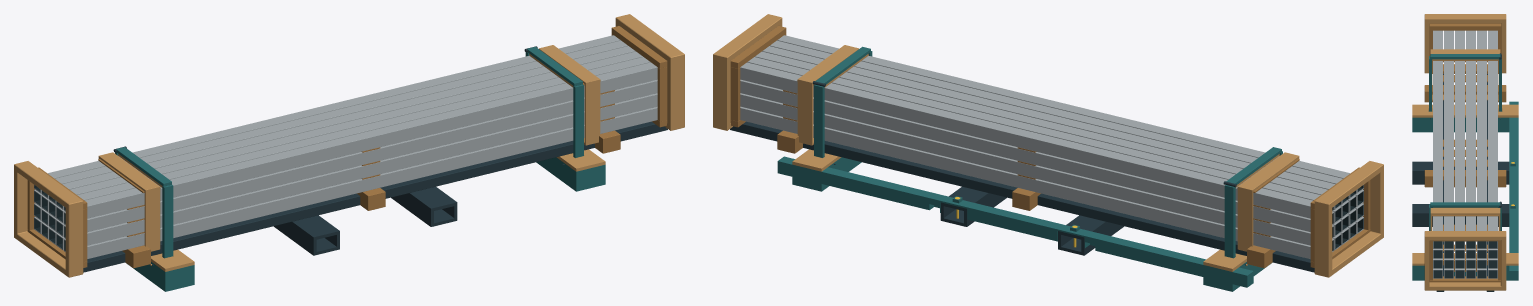
File: long-cradle-loaded-fixture.glb
3 views of the same model, side by side, from view 1: azimuth 30°, elevation 25°; view 2: azimuth 150°, elevation 25°; view 3: azimuth 270°, elevation 25° (orthographic). The views are drawn at different scales.
Visible parts, largest first — view 1: long-cradle-loaded-fixture__batch_01, long-cradle-loaded-fixture__batch_02, long-cradle-loaded-fixture__batch_03, long-cradle-loaded-fixture__batch_00, long-cradle-loaded-fixture__batch_08, long-cradle-loaded-fixture__batch_06, long-cradle-loaded-fixture__batch_22, long-cradle-loaded-fixture__batch_07, long-cradle-loaded-fixture__batch_18, long-cradle-loaded-fixture__batch_20; view 2: long-cradle-loaded-fixture__batch_01, long-cradle-loaded-fixture__batch_02, long-cradle-loaded-fixture__batch_06, long-cradle-loaded-fixture__batch_03, long-cradle-loaded-fixture__batch_00, long-cradle-loaded-fixture__batch_08, long-cradle-loaded-fixture__batch_22, long-cradle-loaded-fixture__batch_07, long-cradle-loaded-fixture__batch_18, long-cradle-loaded-fixture__batch_20; view 3: long-cradle-loaded-fixture__batch_01, long-cradle-loaded-fixture__batch_02, long-cradle-loaded-fixture__batch_00, long-cradle-loaded-fixture__batch_06, long-cradle-loaded-fixture__batch_08, long-cradle-loaded-fixture__batch_07, long-cradle-loaded-fixture__batch_22, long-cradle-loaded-fixture__batch_20, long-cradle-loaded-fixture__batch_18, long-cradle-loaded-fixture__batch_03, long-cradle-loaded-fixture__batch_19.
Boxes of the visible parts, left/top/right/bottom form: long-cradle-loaded-fixture__batch_01: left=34, top=35, right=657, bottom=258; long-cradle-loaded-fixture__batch_02: left=14, top=14, right=684, bottom=277; long-cradle-loaded-fixture__batch_03: left=83, top=121, right=667, bottom=272; long-cradle-loaded-fixture__batch_00: left=27, top=26, right=667, bottom=268; long-cradle-loaded-fixture__batch_08: left=274, top=186, right=457, bottom=255; long-cradle-loaded-fixture__batch_06: left=125, top=157, right=605, bottom=291; long-cradle-loaded-fixture__batch_22: left=115, top=52, right=583, bottom=258; long-cradle-loaded-fixture__batch_07: left=151, top=149, right=605, bottom=271; long-cradle-loaded-fixture__batch_18: left=116, top=147, right=171, bottom=186; long-cradle-loaded-fixture__batch_20: left=527, top=46, right=582, bottom=86; long-cradle-loaded-fixture__batch_01: left=740, top=35, right=1363, bottom=258; long-cradle-loaded-fixture__batch_02: left=713, top=14, right=1383, bottom=277; long-cradle-loaded-fixture__batch_06: left=777, top=156, right=1272, bottom=291; long-cradle-loaded-fixture__batch_03: left=730, top=121, right=1314, bottom=272; long-cradle-loaded-fixture__batch_00: left=730, top=26, right=1370, bottom=268; long-cradle-loaded-fixture__batch_08: left=940, top=186, right=1123, bottom=255; long-cradle-loaded-fixture__batch_22: left=814, top=51, right=1282, bottom=258; long-cradle-loaded-fixture__batch_07: left=792, top=149, right=1246, bottom=271; long-cradle-loaded-fixture__batch_18: left=1226, top=147, right=1281, bottom=184; long-cradle-loaded-fixture__batch_20: left=815, top=46, right=870, bottom=84; long-cradle-loaded-fixture__batch_01: left=1433, top=30, right=1497, bottom=278; long-cradle-loaded-fixture__batch_02: left=1424, top=14, right=1506, bottom=290; long-cradle-loaded-fixture__batch_00: left=1424, top=23, right=1506, bottom=282; long-cradle-loaded-fixture__batch_06: left=1412, top=101, right=1518, bottom=280; long-cradle-loaded-fixture__batch_08: left=1412, top=161, right=1509, bottom=226; long-cradle-loaded-fixture__batch_07: left=1412, top=104, right=1518, bottom=265; long-cradle-loaded-fixture__batch_22: left=1429, top=56, right=1501, bottom=230; long-cradle-loaded-fixture__batch_20: left=1430, top=202, right=1500, bottom=207; long-cradle-loaded-fixture__batch_18: left=1430, top=54, right=1500, bottom=59; long-cradle-loaded-fixture__batch_03: left=1436, top=74, right=1494, bottom=291; long-cradle-loaded-fixture__batch_19: left=1433, top=59, right=1497, bottom=60.
Bounding box in the file's own units: 4.2 × 0.67 × 0.85.
